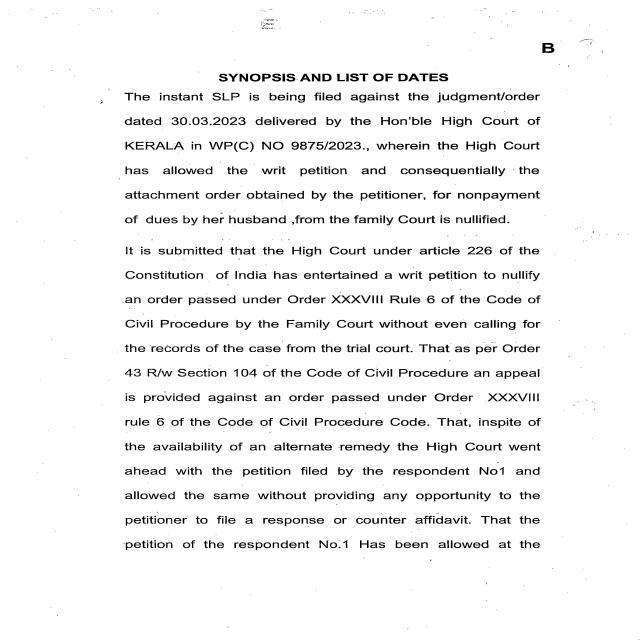page-number: (450, 0, 640, 90)
